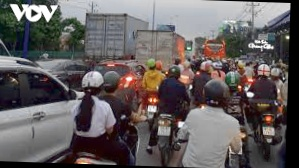Bien-so: (263, 126, 276, 136), (158, 127, 172, 136), (147, 105, 157, 113)
